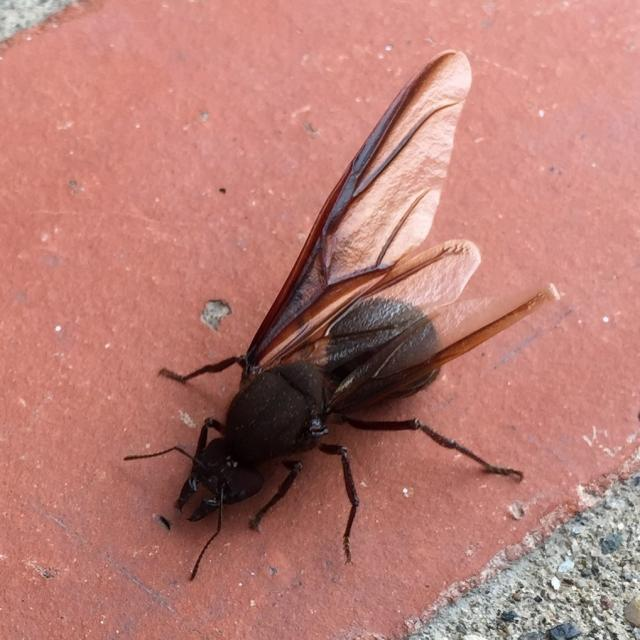Alive-Female-Alate: (123, 49, 560, 582)
